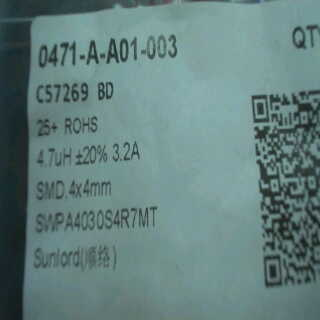4.7uH: (34, 144, 73, 171)
